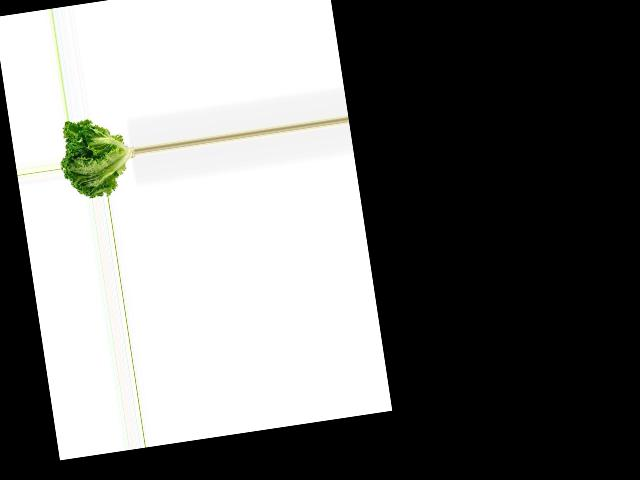lettuce: (55, 112, 140, 202)
